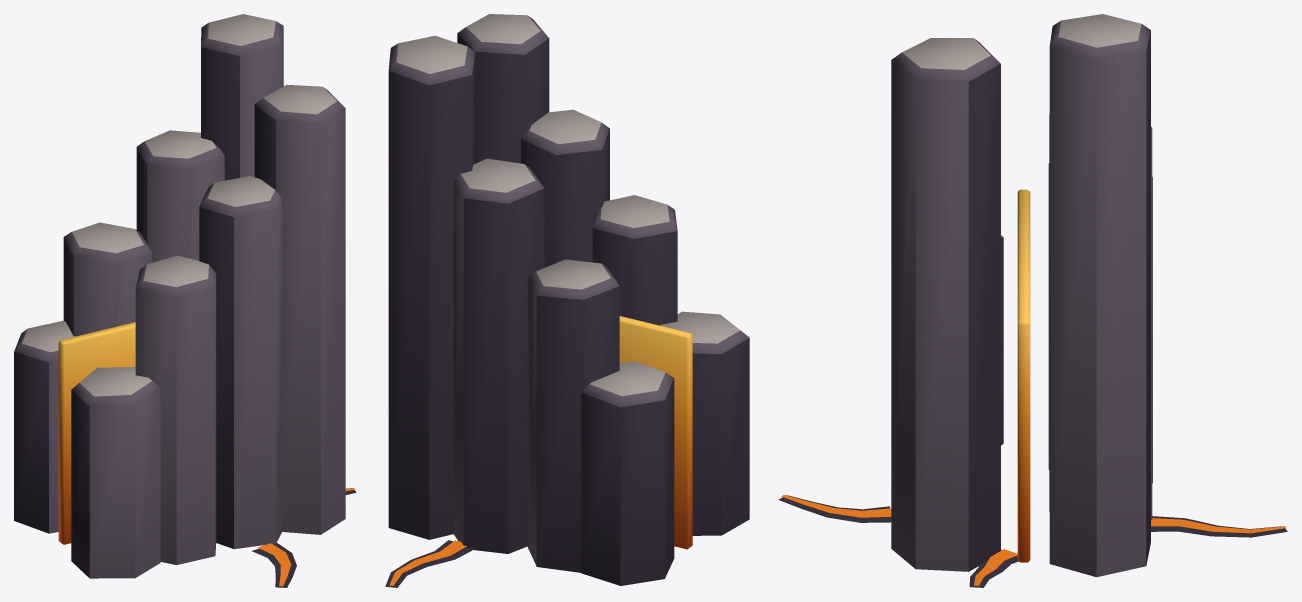
The model's file is BasaltBlockC.fbx.
The picture shows the model from 3 angles, left to right: view 1: azimuth 30°, elevation 25°; view 2: azimuth 150°, elevation 25°; view 3: azimuth 270°, elevation 25°; orthographic projection. The views are drawn at different scales.
Parts seen in each view (by area): view 1: BasaltBlockC; view 2: BasaltBlockC; view 3: BasaltBlockC.
Boxes of the visible parts, <box> form: BasaltBlockC: <box>14,14,356,587</box>; BasaltBlockC: <box>385,14,749,587</box>; BasaltBlockC: <box>778,14,1287,587</box>.
Bounding box in the file's own units: 1.57 × 2.29 × 2.01.
2 materials, 2 textured.
